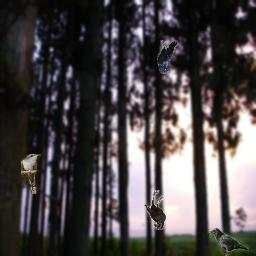Crow: (209, 228, 249, 256), (144, 190, 166, 230), (157, 40, 178, 74)
Cuckoo: (21, 154, 41, 194)
